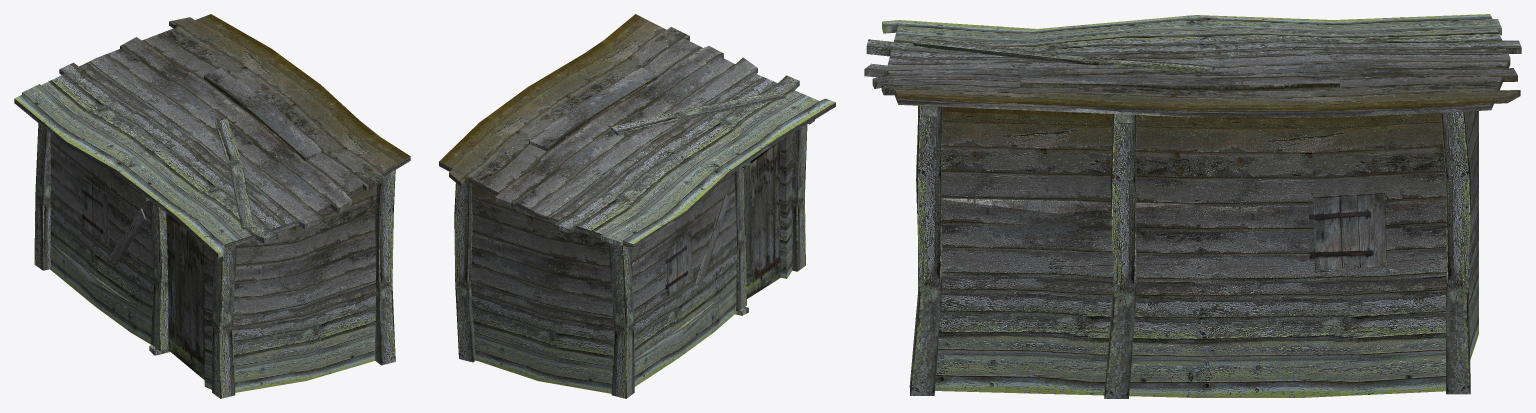
Rendered from barn01_LOD01.fbx.
The picture shows the model from 3 angles, left to right: view 1: azimuth 30°, elevation 25°; view 2: azimuth 150°, elevation 25°; view 3: azimuth 270°, elevation 25°; orthographic projection. The views are drawn at different scales.
Visible parts, largest first — view 1: Mesh Object; view 2: Mesh Object; view 3: Mesh Object.
Boxes of the visible parts, bbox=[...] form: Mesh Object: bbox=[14, 14, 410, 398]; Mesh Object: bbox=[439, 14, 835, 398]; Mesh Object: bbox=[864, 14, 1521, 398].
Size of the model in its own units: 2.29 by 2.17 by 4.22.
